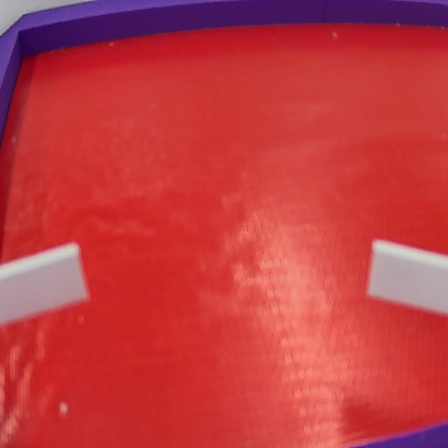red_aim: (5, 2, 445, 447)
